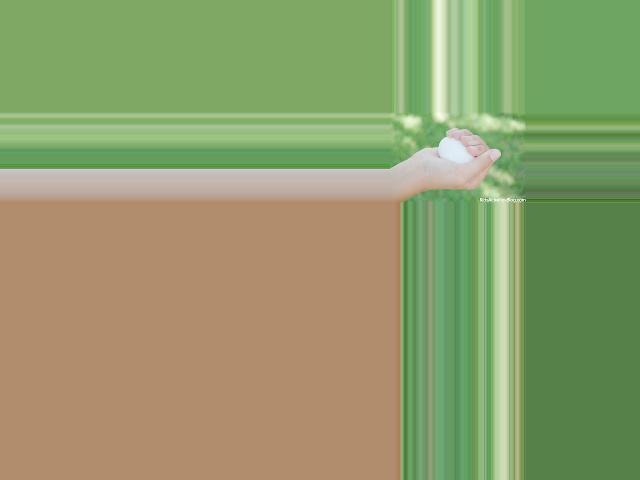egg: (439, 136, 475, 164)
